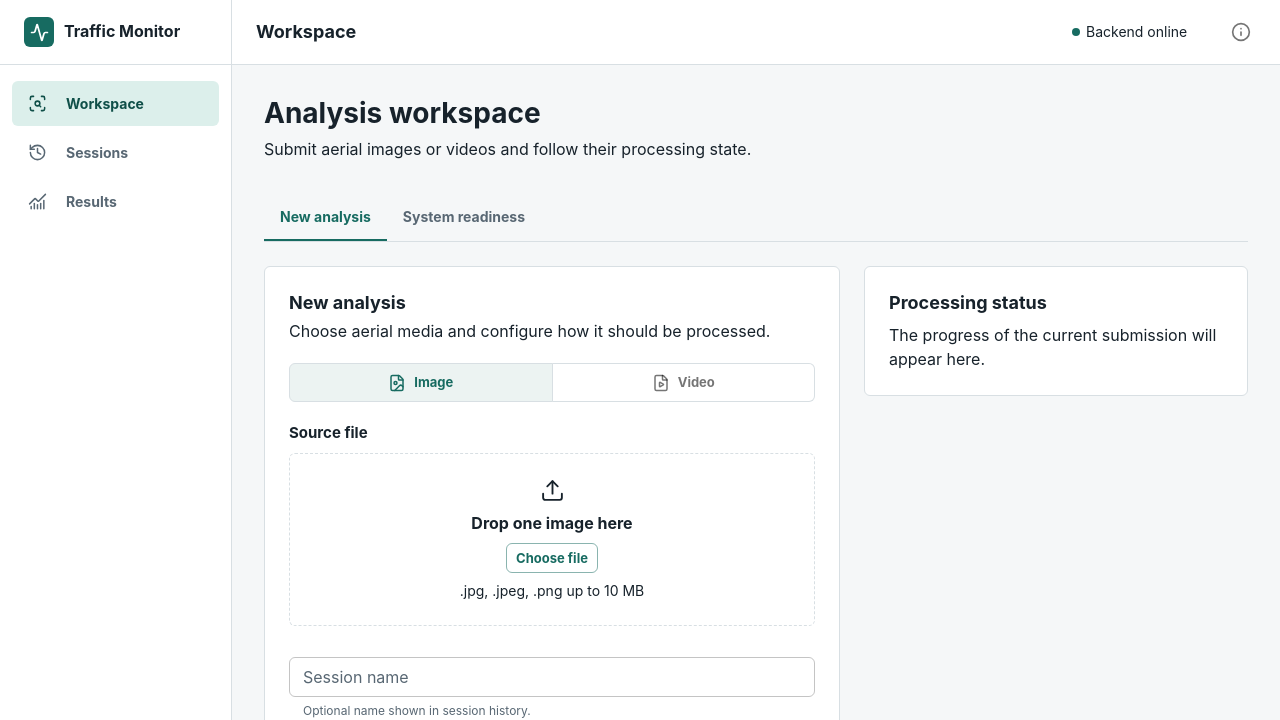
Scenario: App › shows live dependency readiness in the workspace
Click the tab "System readiness".
click(464, 217)  # box [387, 193, 541, 241]
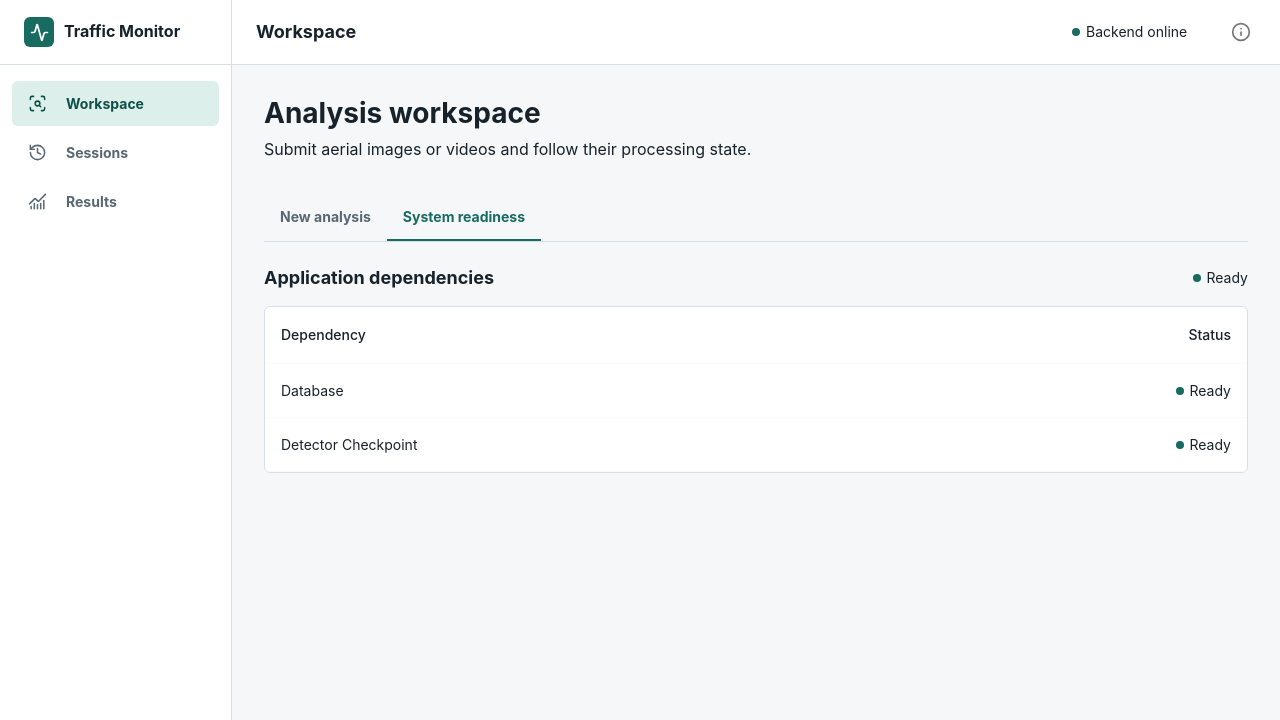
Expected: the table named "Application dependency readiness" is shown, [265, 307, 1247, 472]
Expected: the text "Database" is shown, [265, 364, 911, 418]
Expected: the text "Detector Checkpoint" is shown, [265, 418, 911, 472]
